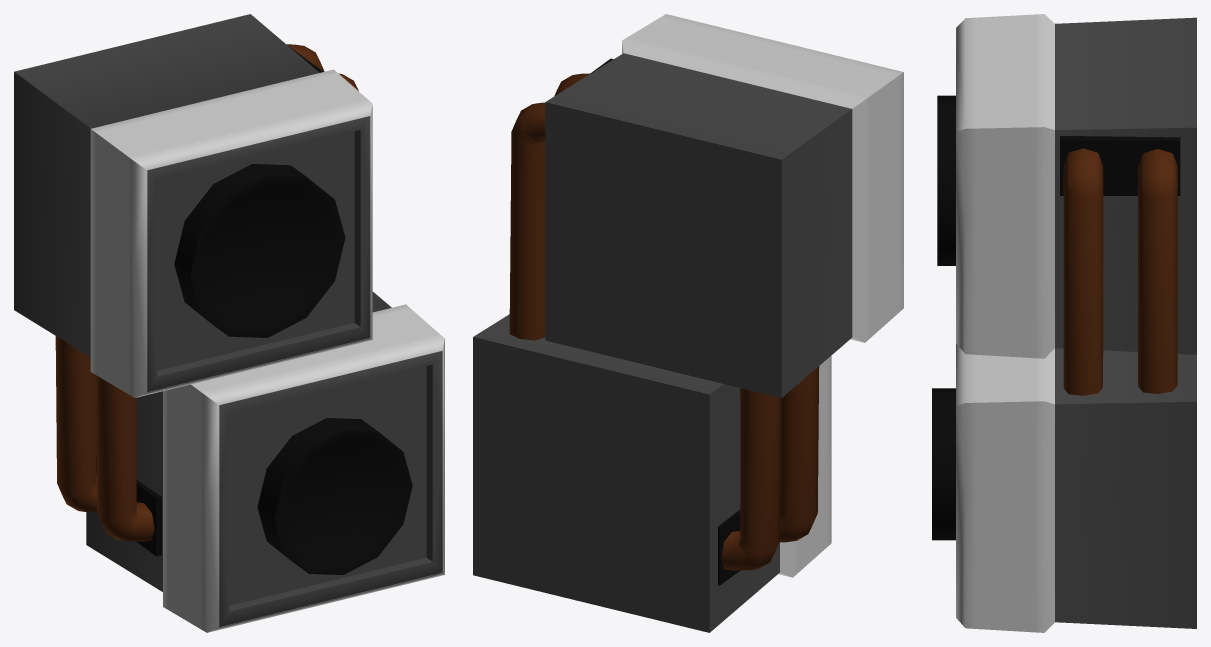
File: AC_Stacked_Cube.obj
3 views of the same model, side by side, from view 1: azimuth 30°, elevation 25°; view 2: azimuth 150°, elevation 25°; view 3: azimuth 270°, elevation 25° (orthographic). The views are drawn at different scales.
Visible parts, largest first — view 1: AC_Stacked_Cube.026; view 2: AC_Stacked_Cube.026; view 3: AC_Stacked_Cube.026.
Part boxes in pixels (x1=…): AC_Stacked_Cube.026: x1=14, y1=14, x2=444, y2=632; AC_Stacked_Cube.026: x1=473, y1=14, x2=903, y2=632; AC_Stacked_Cube.026: x1=932, y1=14, x2=1196, y2=632.
Bounding box in the file's own units: 0.6701 × 1.01 × 0.5115.
